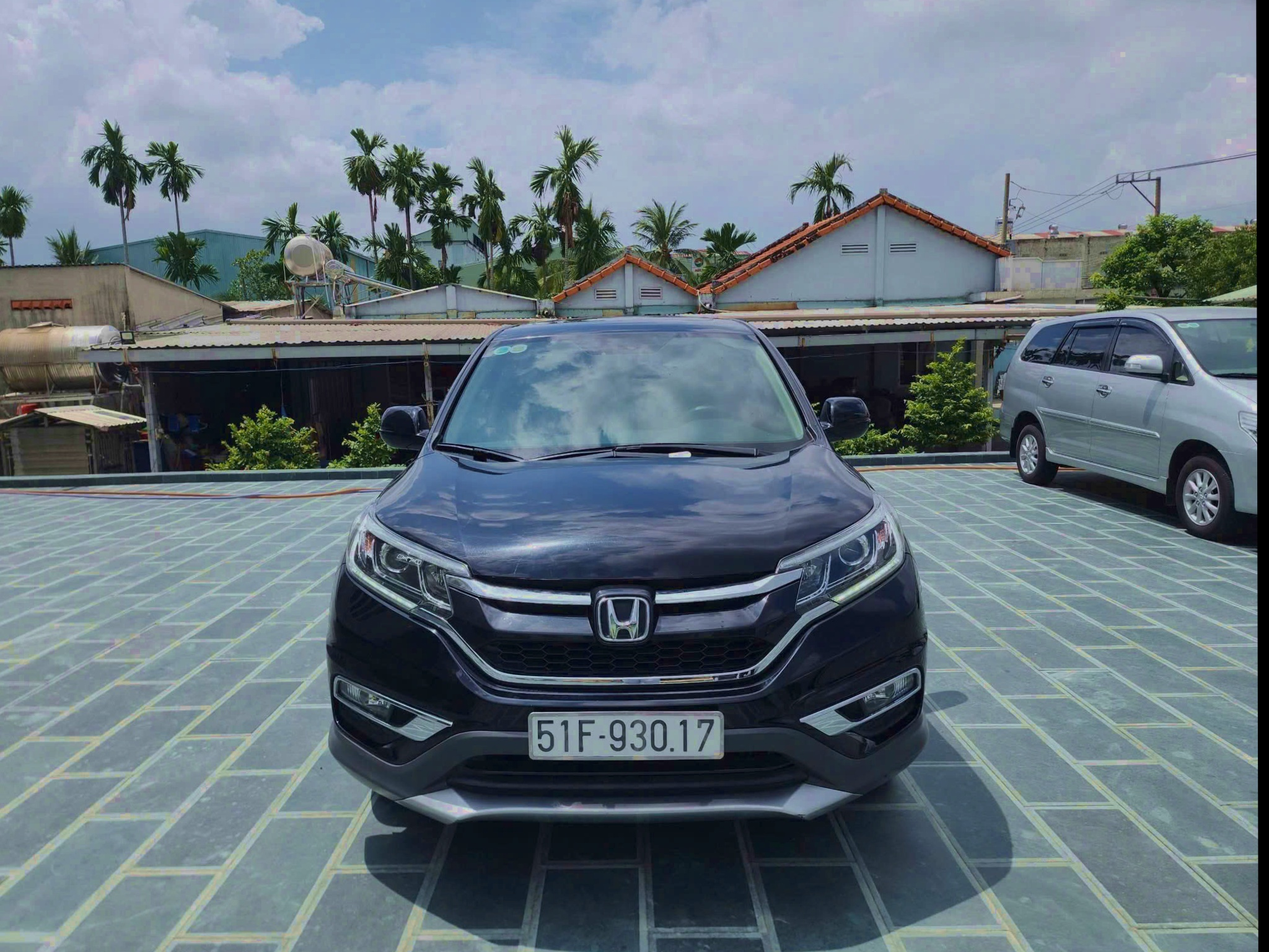Bien-so: (537, 695, 733, 748)
